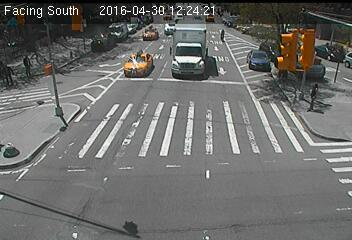neg: (326, 41, 344, 64), (215, 24, 231, 46), (143, 22, 158, 43), (125, 218, 140, 238)
pos: (303, 83, 325, 111), (15, 51, 36, 78)
